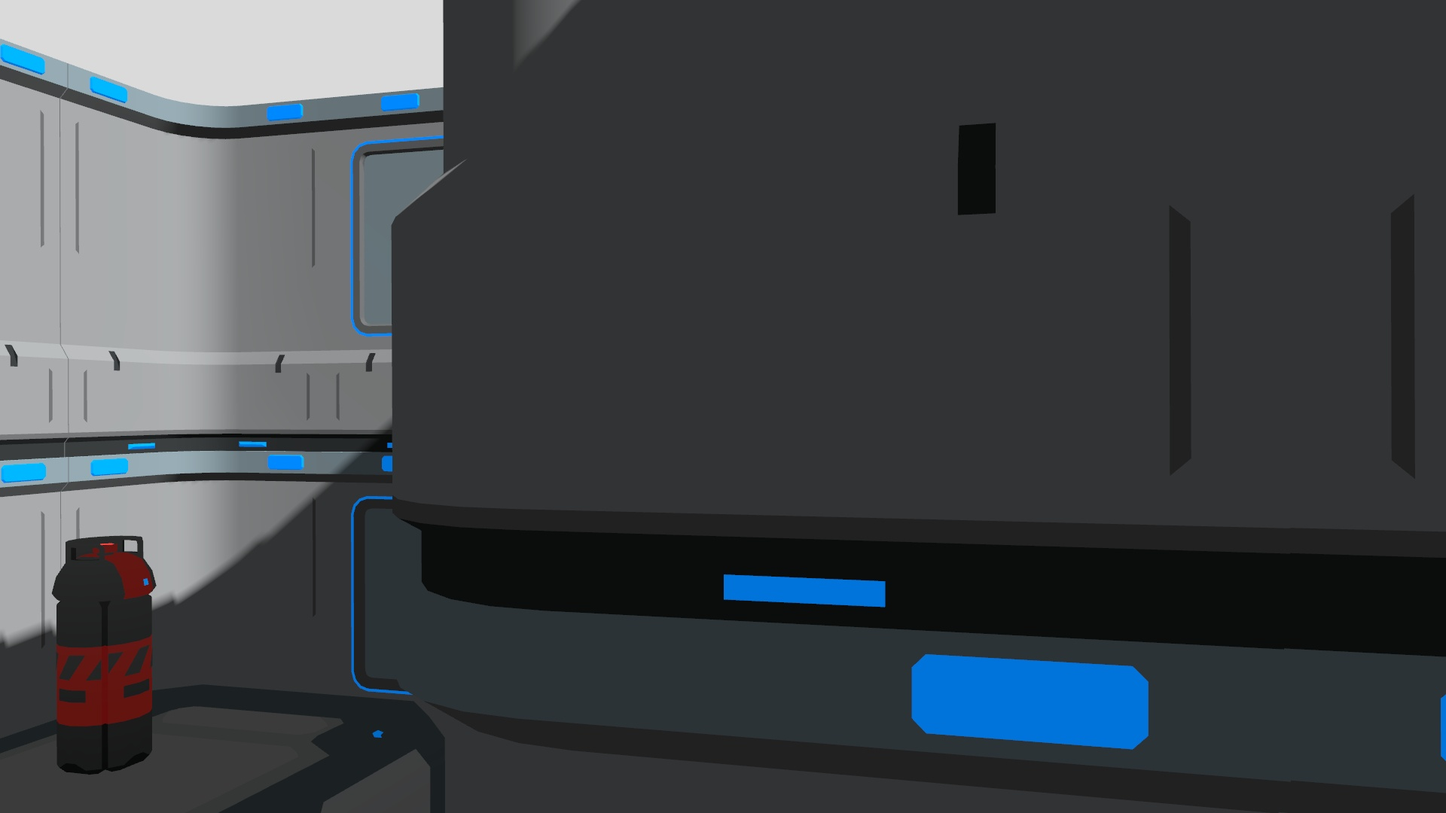red_barrel: (47, 532, 163, 781)
